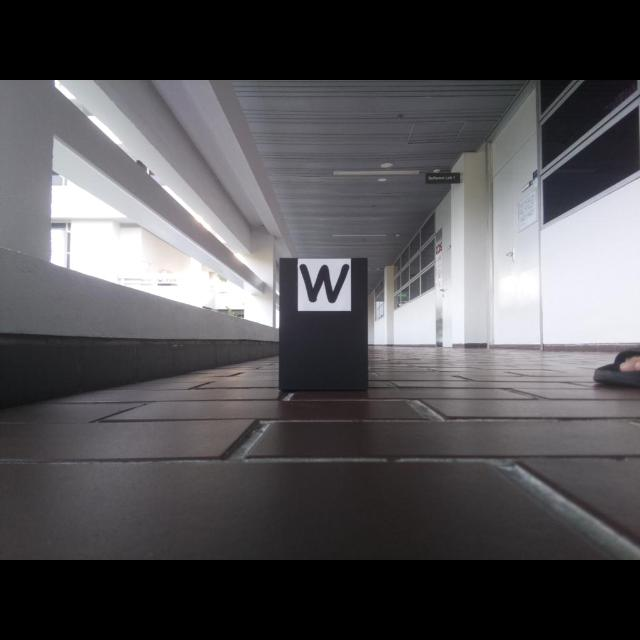W: (299, 262, 351, 305)
